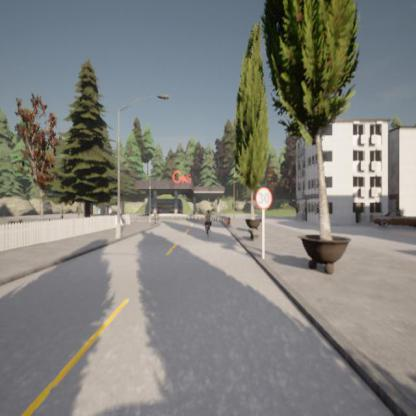motobike: (204, 210, 213, 237)
traffic_sign_30: (256, 188, 274, 208)
